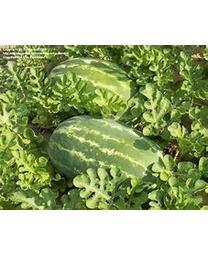watermelon: (47, 115, 175, 197), (43, 58, 140, 121)
